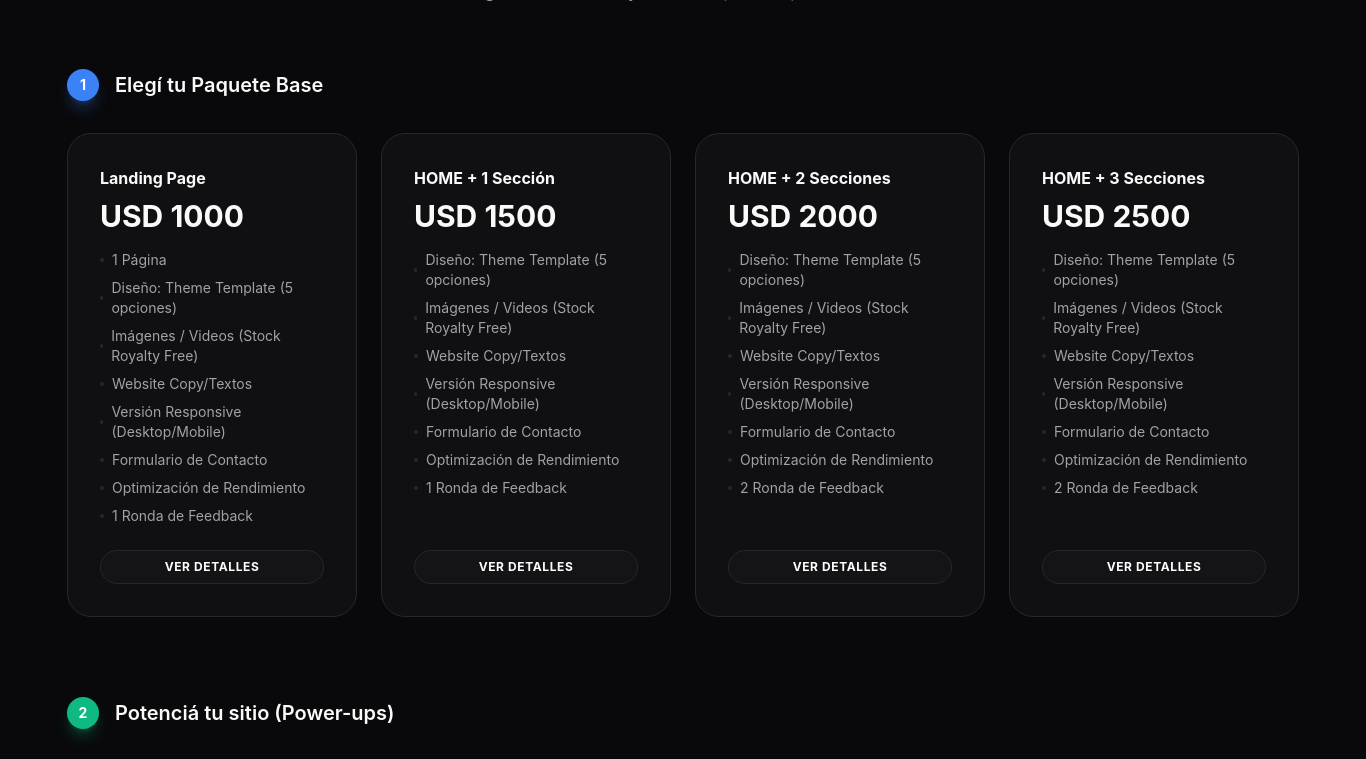
Test: Configurator Section › should open and submit the project request modal
This screenshot has width=1366, height=759.
(page scrolled)
// Select a package to show the summary bar
Click the text "Landing Page" at {"x": 212, "y": 375}, box left=67, top=133, right=357, bottom=617
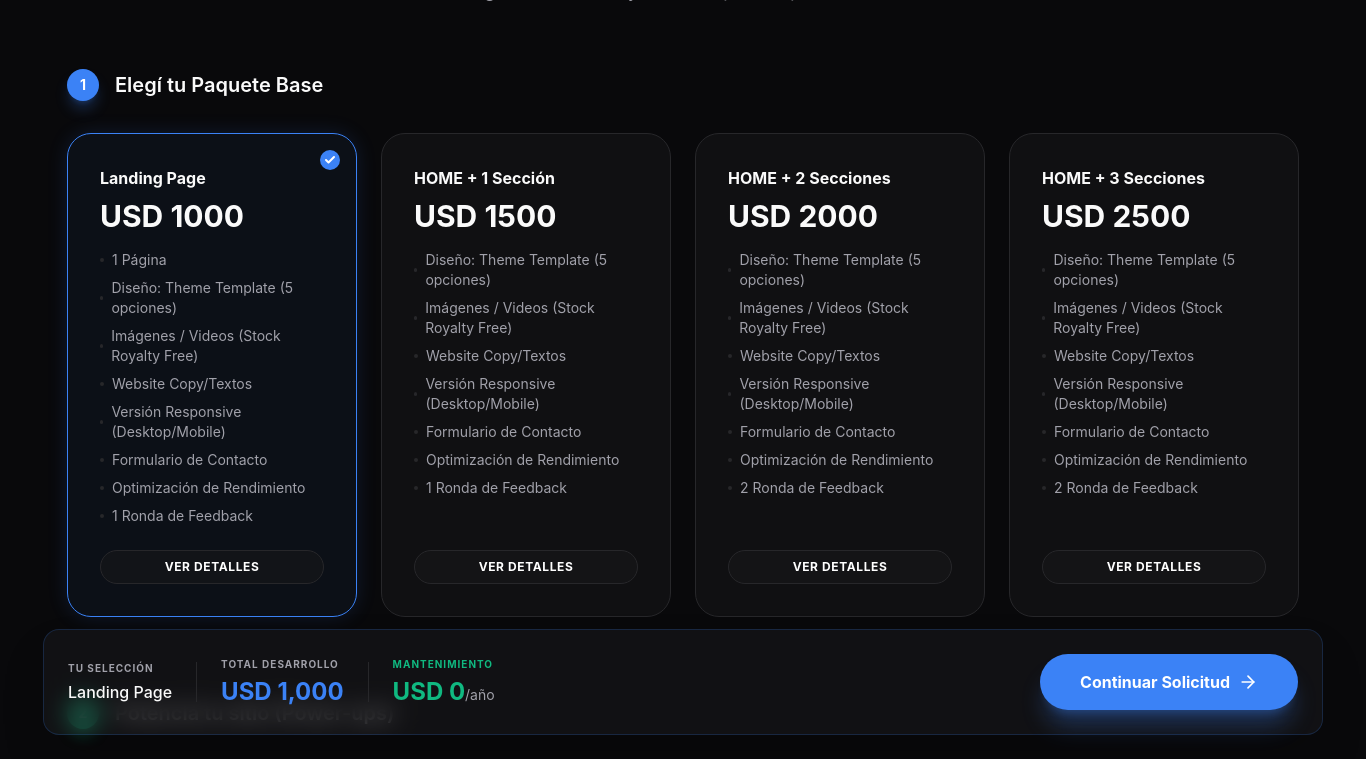
Now the element with test id "summary-bar" is shown, box left=0, top=629, right=1365, bottom=735
Click the button "Continuar Solicitud" at {"x": 1169, "y": 682}, box left=1040, top=654, right=1298, bottom=710
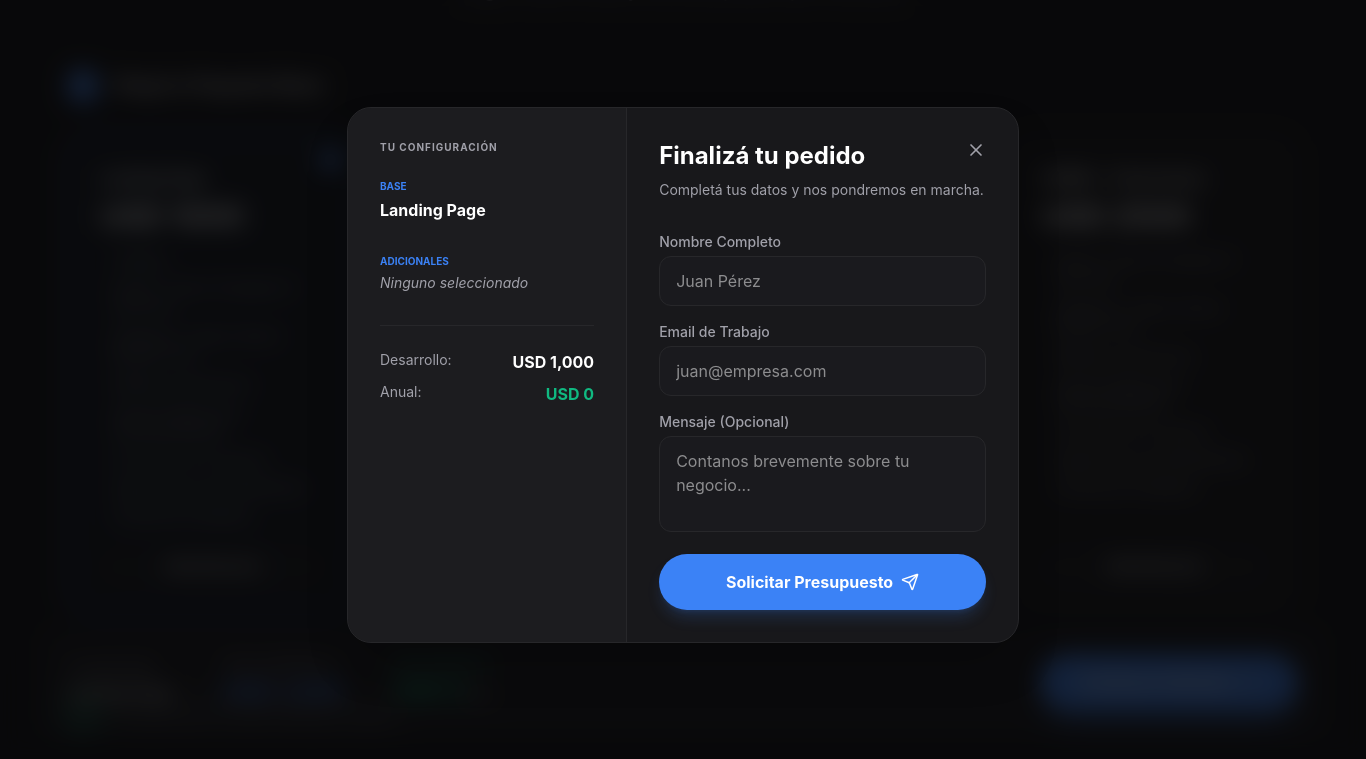
Now the heading "Finalizá tu pedido" is shown, box left=659, top=141, right=865, bottom=170
// Fill the form
Type "John Doe" into the field with placeholder "Juan Pérez" at {"x": 823, "y": 281}, box left=659, top=256, right=986, bottom=306
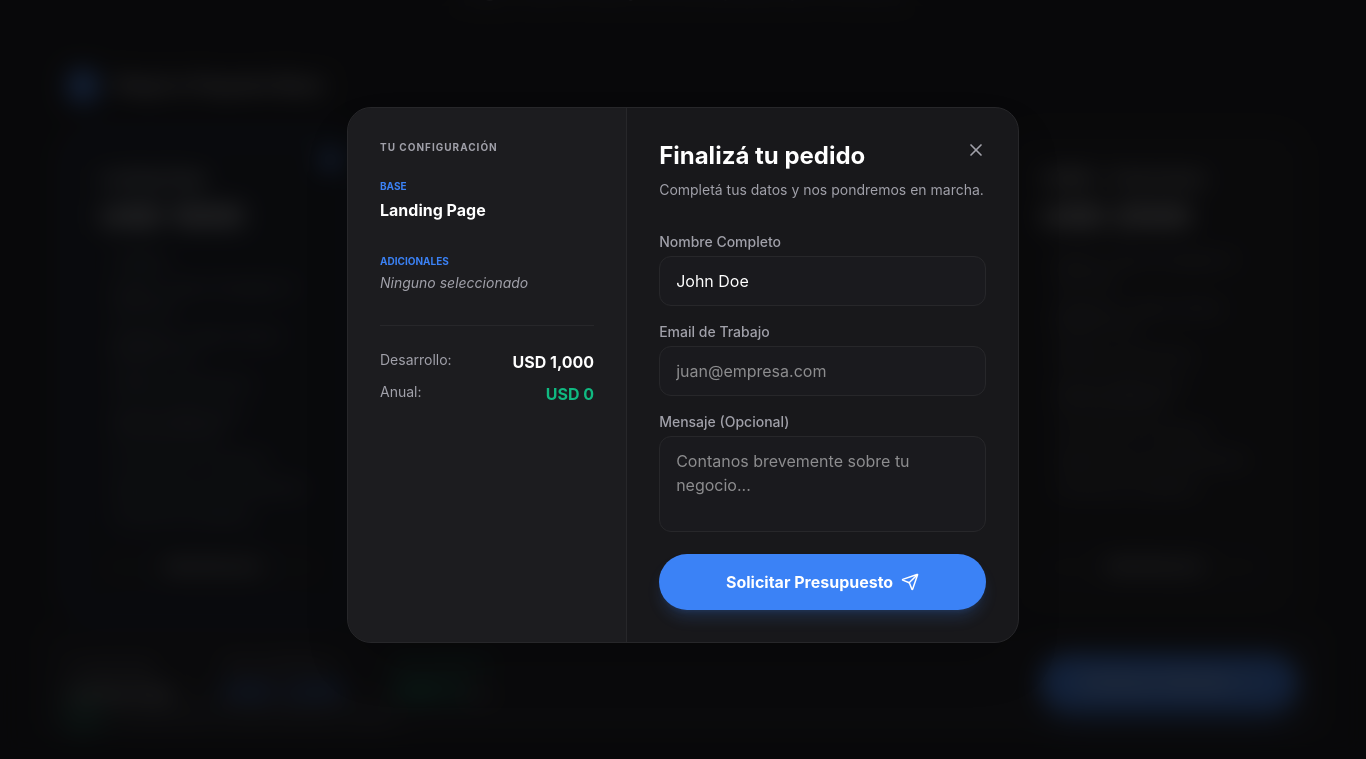
Type "john@doe.com" into the field with placeholder "juan@empresa.com" at {"x": 823, "y": 371}, box left=659, top=346, right=986, bottom=396
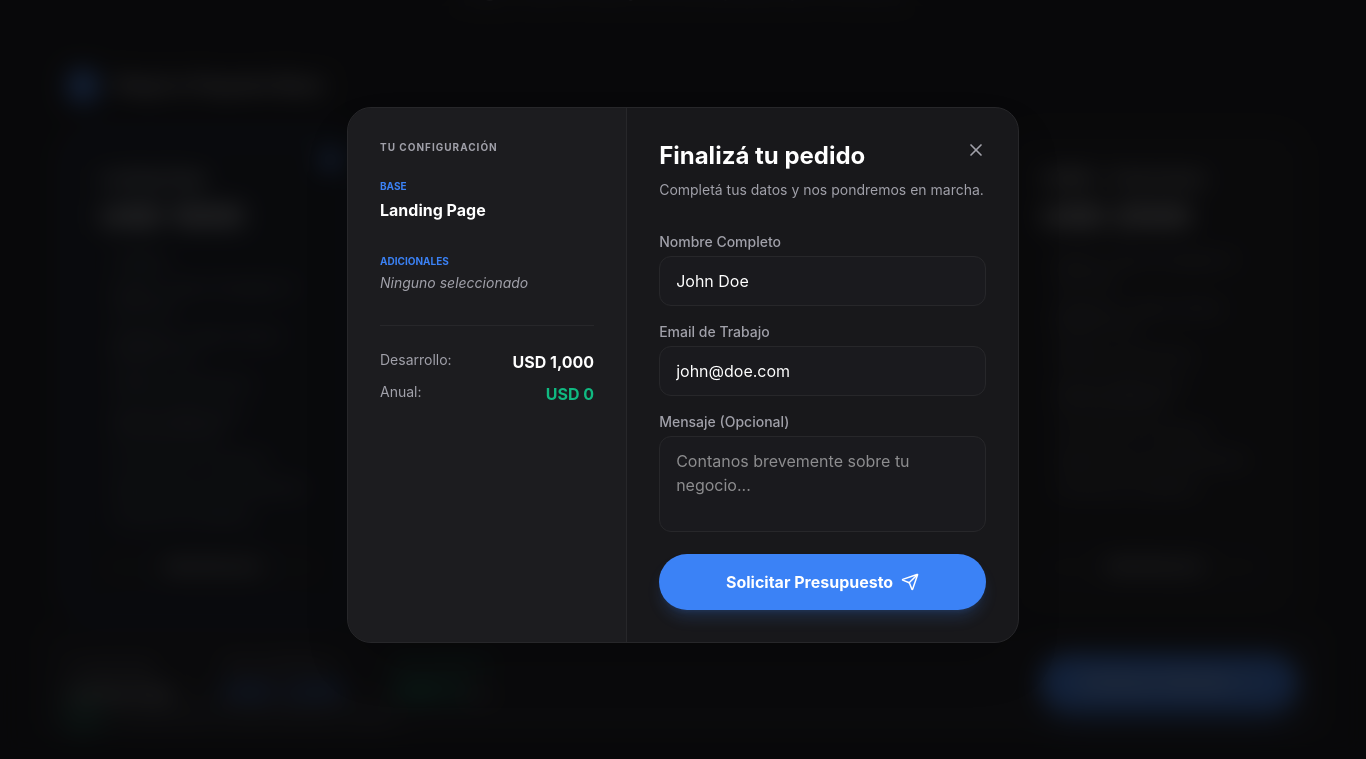
// Submit the form
Click the button "Solicitar Presupuesto" at {"x": 823, "y": 582}, box left=659, top=554, right=986, bottom=610
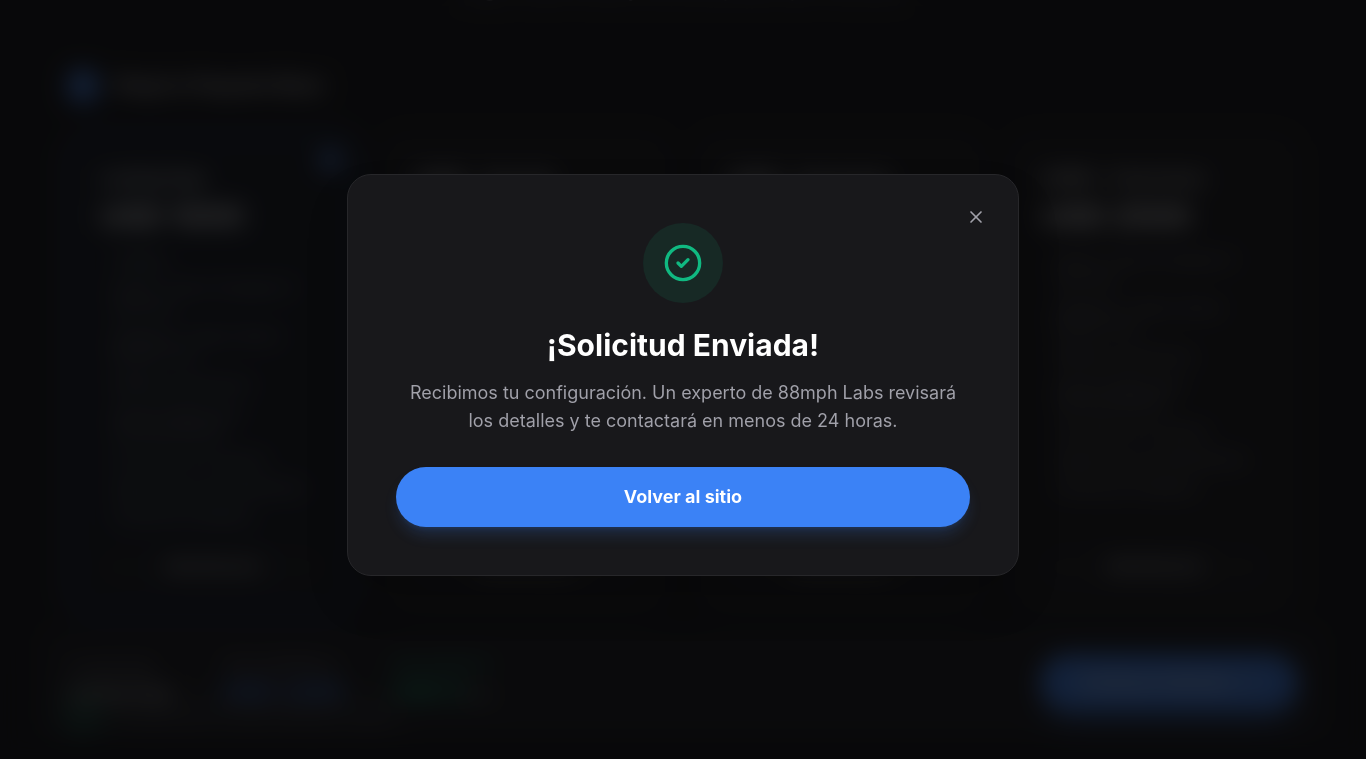
Now the heading "¡Solicitud Enviada!" is shown, box left=547, top=327, right=819, bottom=363
